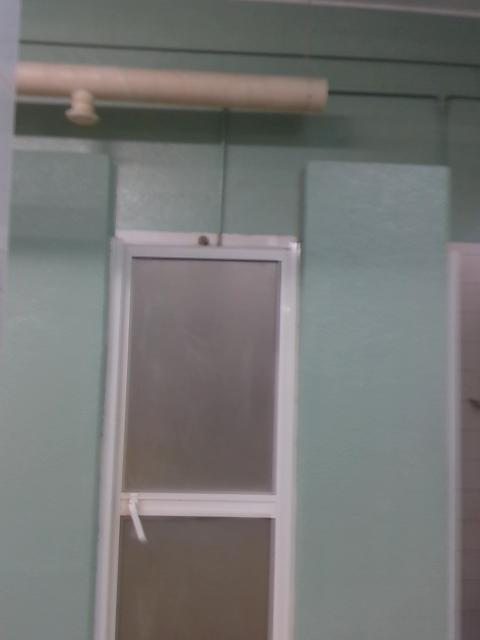door: (108, 247, 289, 640)
